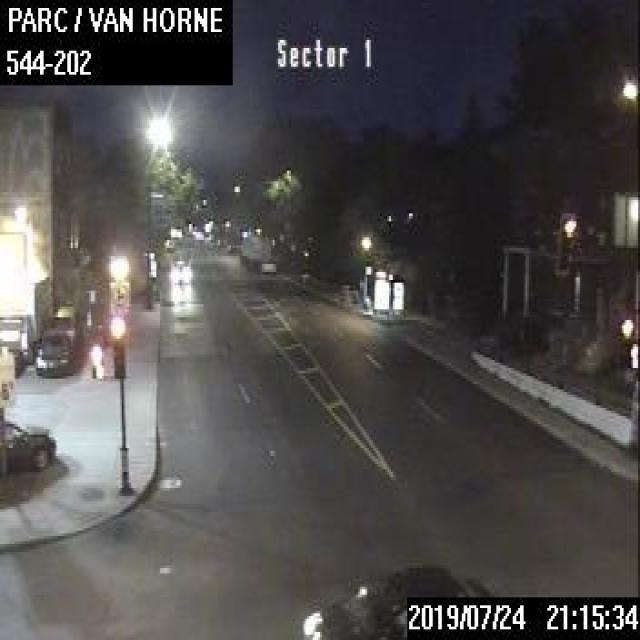vehicle: (299, 555, 493, 637), (0, 273, 47, 361), (2, 418, 54, 472), (30, 332, 73, 376), (41, 302, 78, 344), (170, 257, 190, 281), (260, 256, 275, 270)
